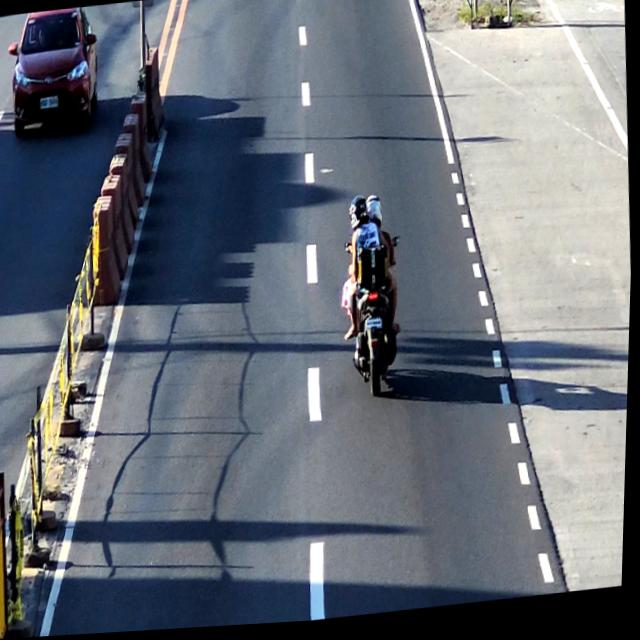License-Plate: (365, 322, 385, 336)
Motorcycle: (341, 197, 412, 414)
